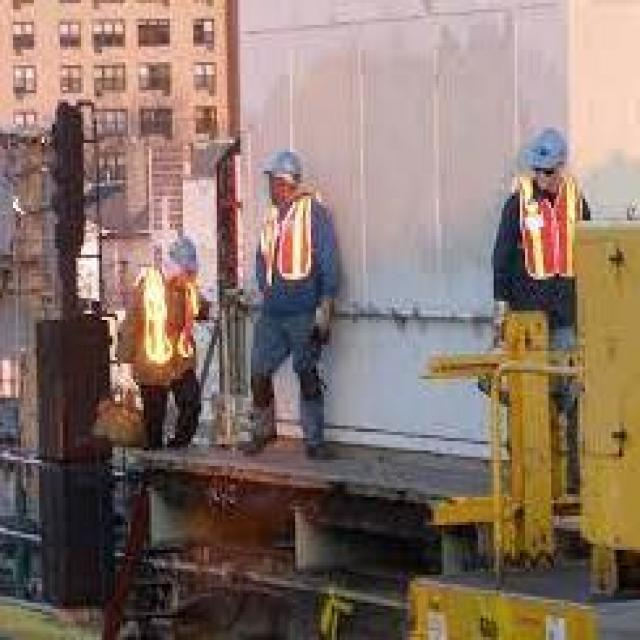Reflective-Jacket: (248, 196, 342, 320), (502, 171, 593, 295)
Safety-Helmet: (515, 118, 580, 180), (256, 140, 311, 189)
